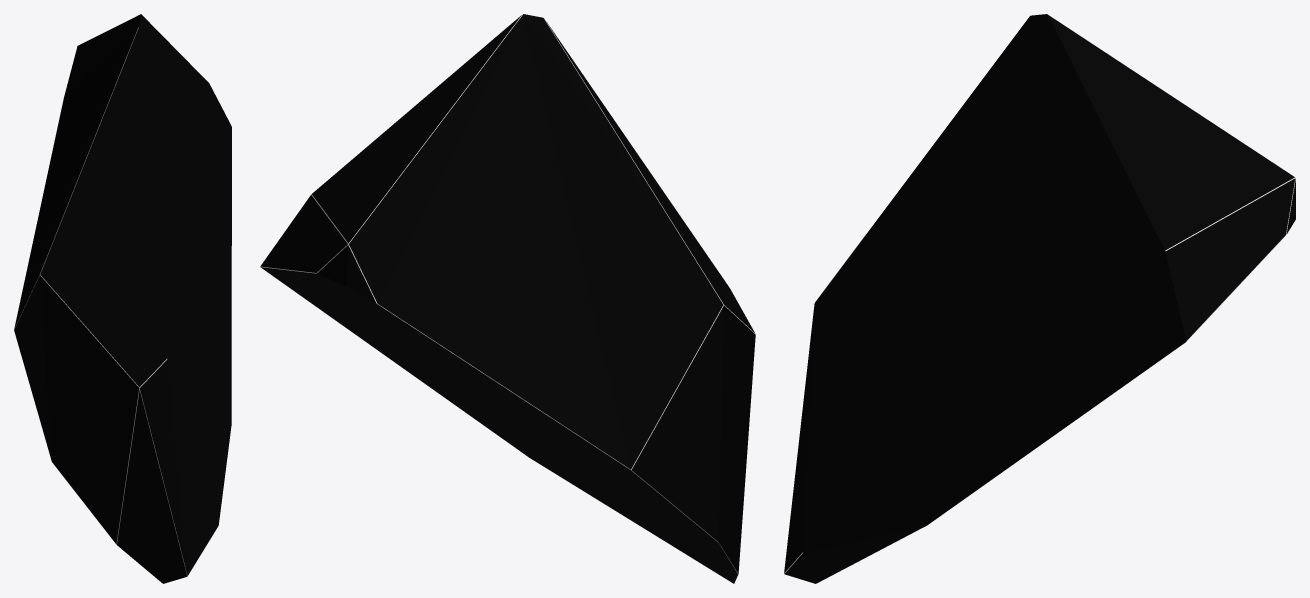
Rendered from fragment01.glb.
3 views of the same model, side by side, from view 1: azimuth 30°, elevation 25°; view 2: azimuth 150°, elevation 25°; view 3: azimuth 270°, elevation 25° (orthographic). The views are drawn at different scales.
Parts seen in each view (by area): view 1: project02; view 2: project02; view 3: project02.
Boxes of the visible parts, box(x1,y1,x2,y2) form: project02: box(14, 14, 231, 583); project02: box(260, 14, 755, 583); project02: box(784, 14, 1295, 583).
Size of the model in its own units: 1.15 by 1.96 by 1.48.
2 materials, 1 textured.
